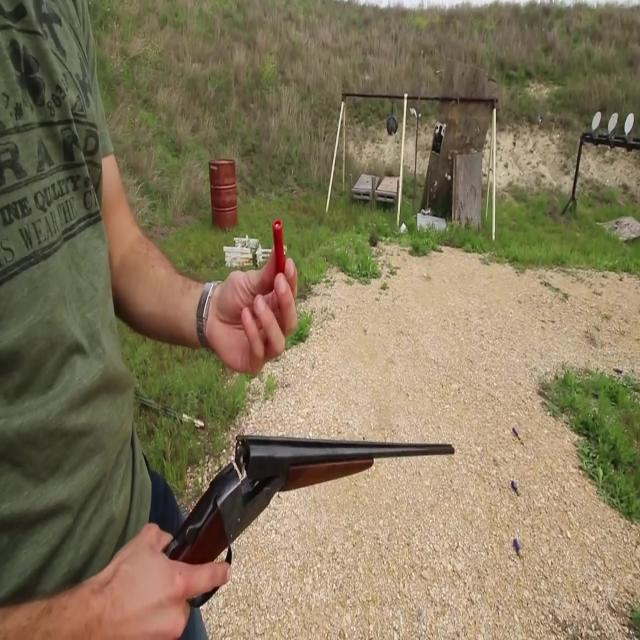Weapon: (122, 379, 464, 595), (249, 179, 306, 297)
